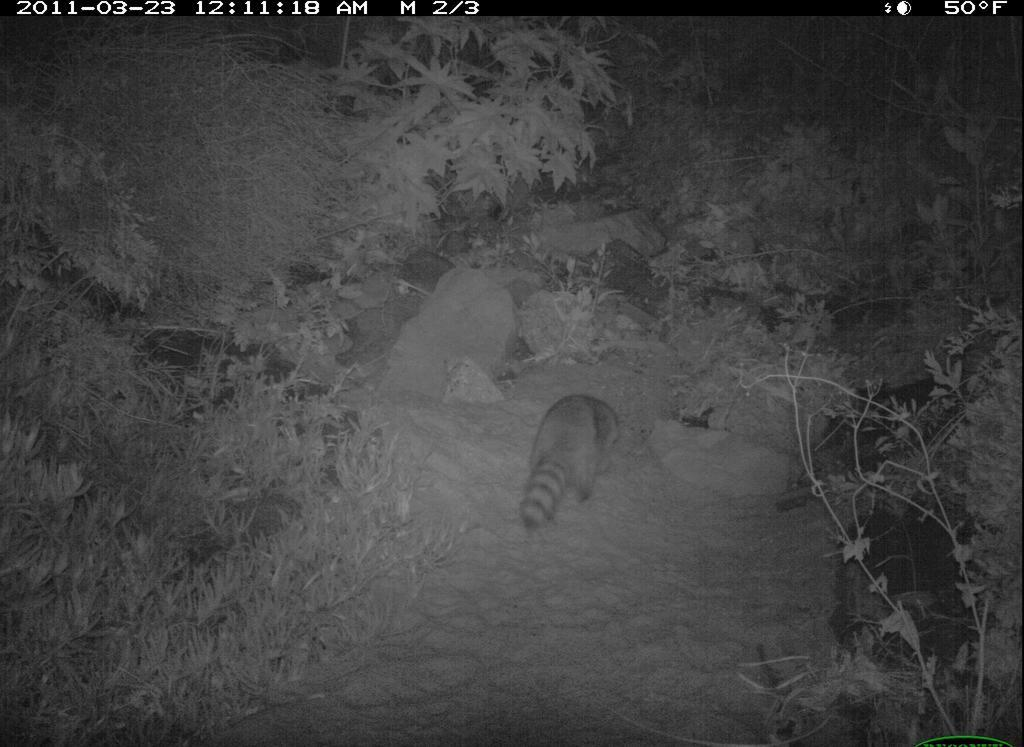raccoon: (505, 373, 635, 547)
